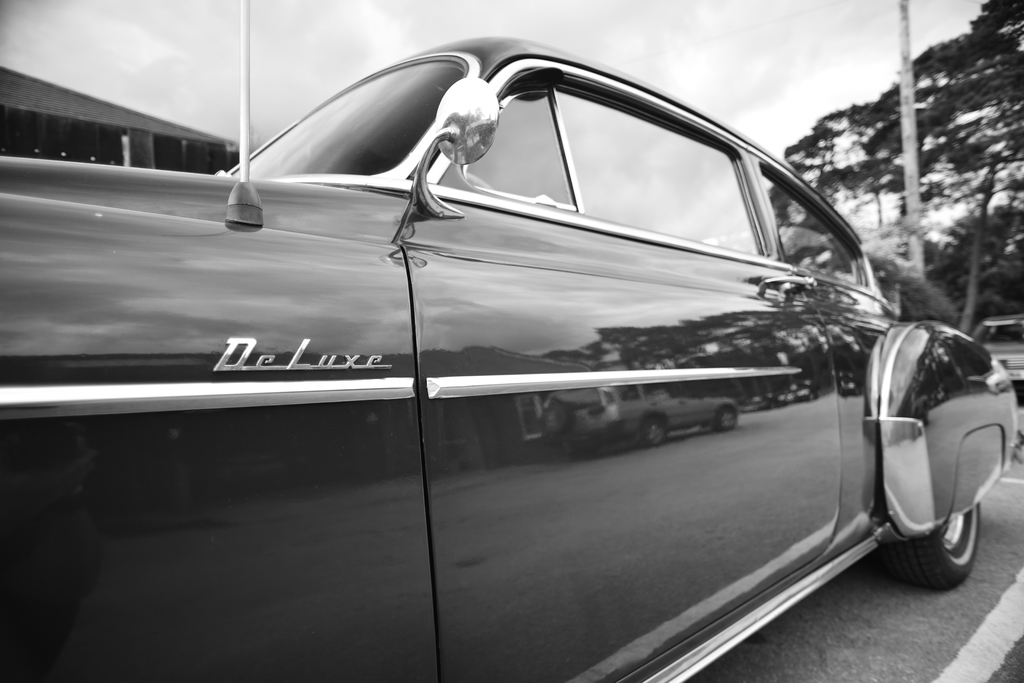Car: (0, 0, 1018, 682)
